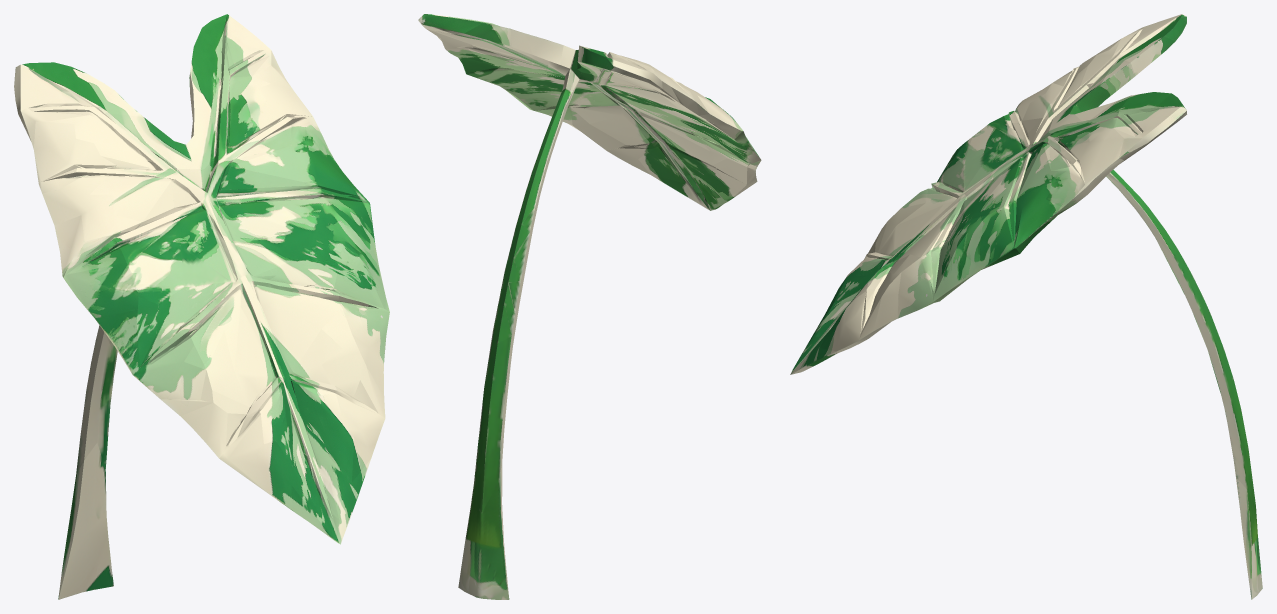
Rendered from al_leaf_mature_marble.glb.
The picture shows the model from 3 angles, left to right: view 1: azimuth 30°, elevation 25°; view 2: azimuth 150°, elevation 25°; view 3: azimuth 270°, elevation 25°; orthographic projection. The views are drawn at different scales.
Bounding box in the file's own units: 1.05 × 1.9 × 1.54.
1 material, 1 textured.
